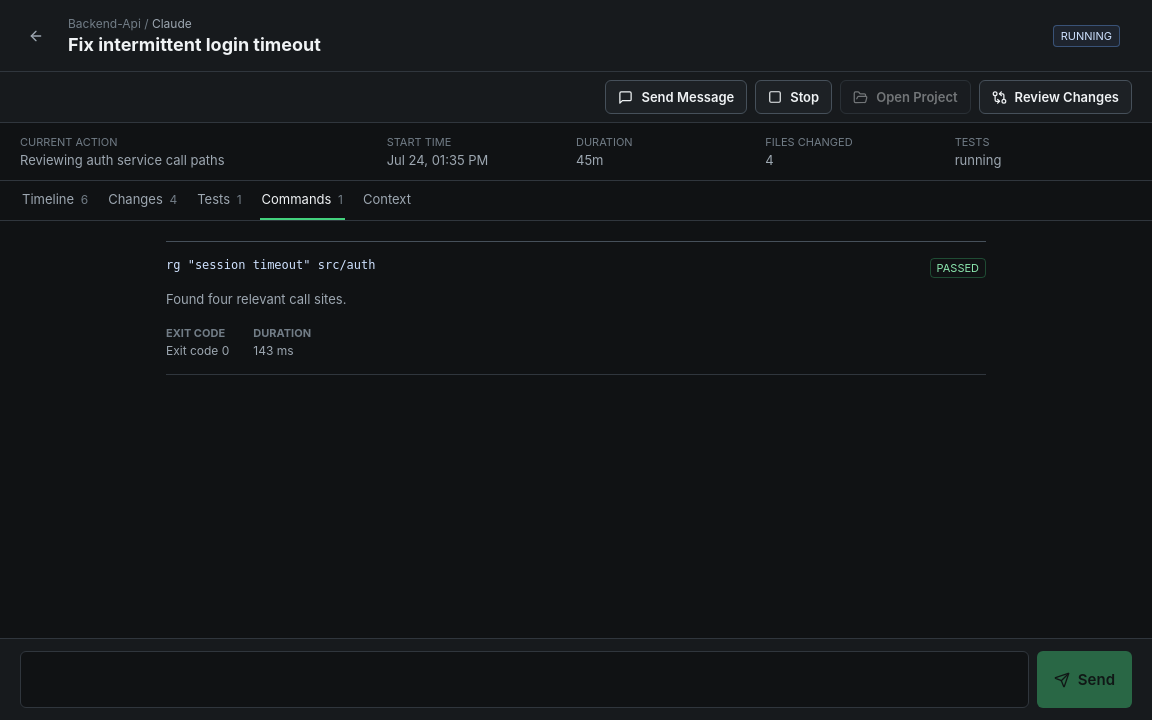
Test: SessionDetailPage › deep-links to structured command, test, and context views
Expected: the text "Found four relevant call sites." is shown, left=166, top=291, right=346, bottom=307
Expected: the text "Exit code 0" is shown, left=166, top=342, right=229, bottom=358
What coordinates should you click on to do the following:
click the tab "Tests 1"
I would click on:
 (219, 200)
Its box is left=195, top=180, right=244, bottom=220.
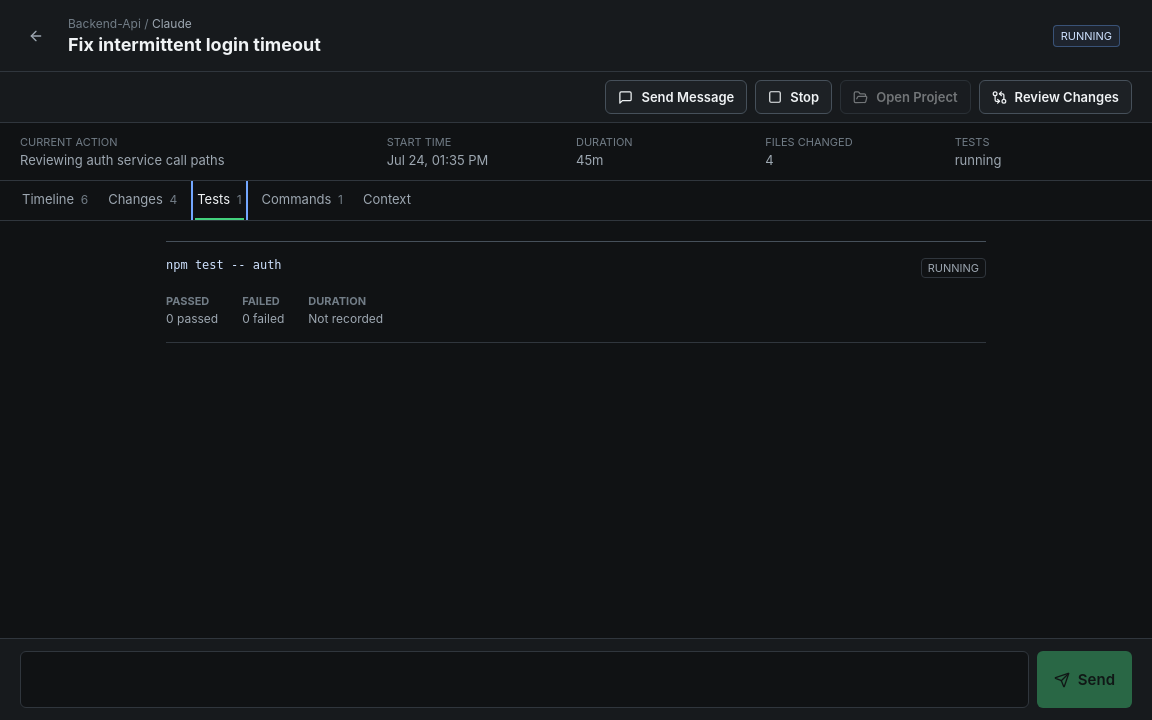
Expected: the text "0 passed" is shown, left=166, top=311, right=218, bottom=326
Expected: the text "0 failed" is shown, left=242, top=311, right=284, bottom=326
What coordinates should you click on to do the following:
click the tab "Context"
I would click on:
 (387, 200)
Its box is left=361, top=180, right=413, bottom=220.
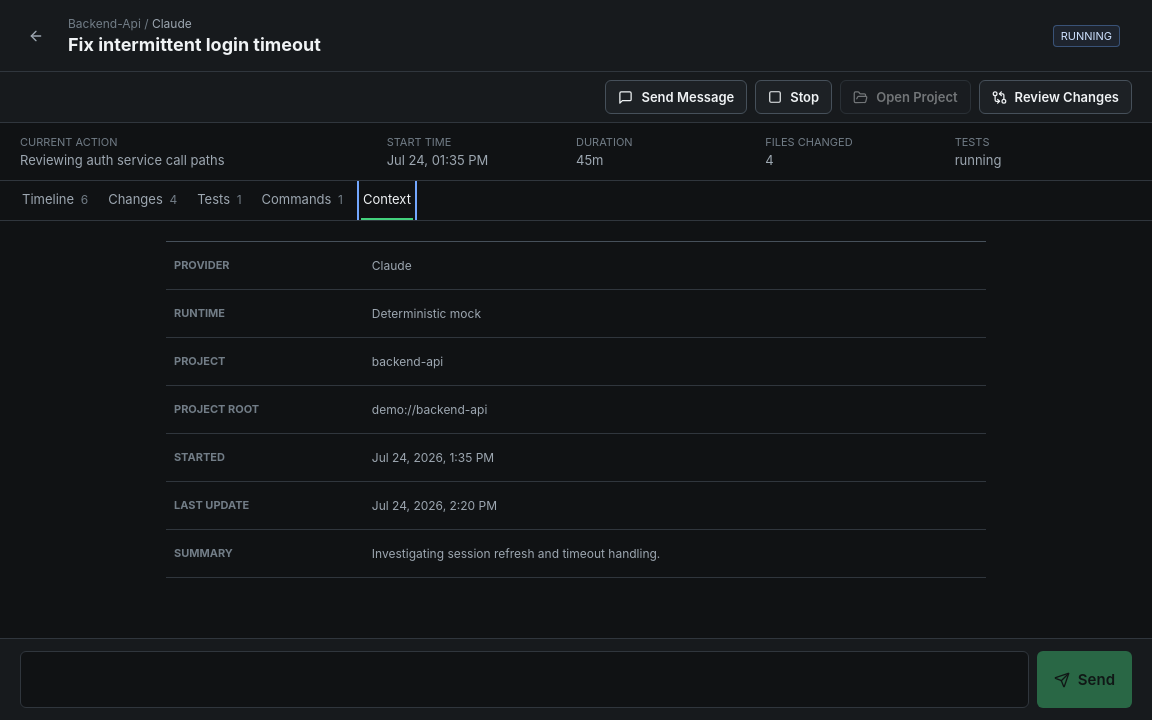
Expected: the text "demo://backend-api" is shown, left=372, top=402, right=487, bottom=417
Expected: the text "Deterministic mock" is shown, left=372, top=306, right=481, bottom=321
